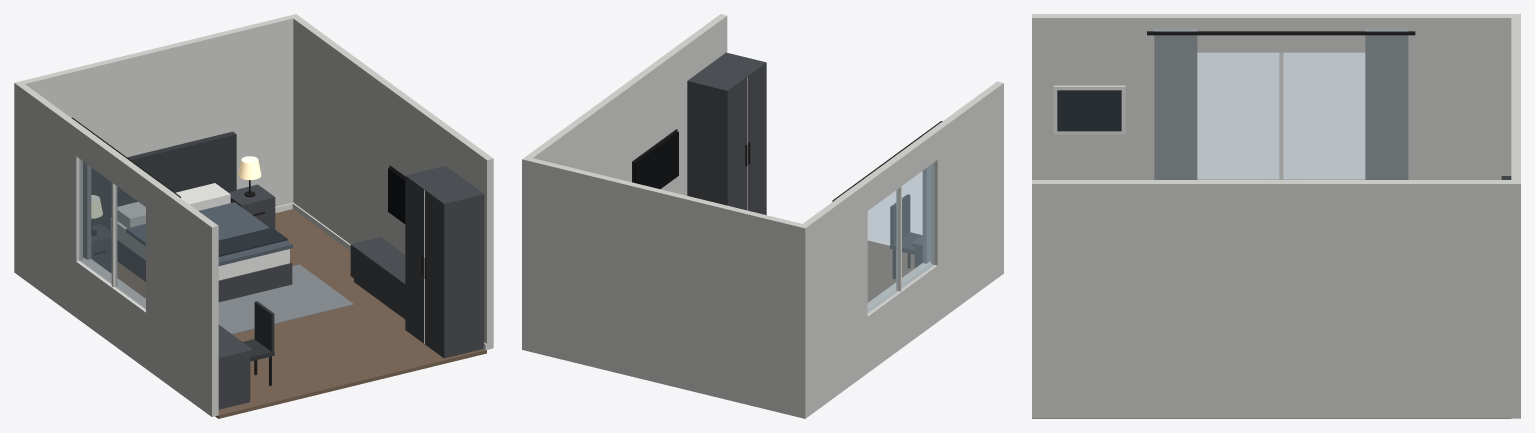
File: room-2.glb
3 views of the same model, side by side, from view 1: azimuth 30°, elevation 25°; view 2: azimuth 150°, elevation 25°; view 3: azimuth 270°, elevation 25° (orthographic). The views are drawn at different scales.
Parts seen in each view (by area): view 1: wall, wood, floor, glass, headboard, rug, linen, blanket, window_frame, chair, runner, curtain (+4 smaller); view 2: wall, wood, glass, screen, floor, window_frame, chair, curtain, metal; view 3: wall, glass, curtain, runner, window_frame, metal, floor.
Part boxes in pixels (x1=…): wall: x1=14, y1=14, x2=493, y2=416; wood: x1=91, y1=166, x2=484, y2=409; floor: x1=111, y1=209, x2=486, y2=418; glass: x1=79, y1=159, x2=145, y2=309; headboard: x1=91, y1=131, x2=236, y2=230; rug: x1=218, y1=264, x2=353, y2=334; linen: x1=110, y1=183, x2=289, y2=280; blanket: x1=126, y1=202, x2=292, y2=265; window_frame: x1=77, y1=182, x2=145, y2=311; chair: x1=243, y1=301, x2=274, y2=361; runner: x1=218, y1=227, x2=287, y2=256; curtain: x1=77, y1=122, x2=175, y2=259; wall: x1=522, y1=14, x2=1003, y2=418; wood: x1=687, y1=52, x2=922, y2=267; glass: x1=867, y1=162, x2=934, y2=313; screen: x1=634, y1=131, x2=678, y2=189; floor: x1=867, y1=240, x2=914, y2=302; window_frame: x1=867, y1=186, x2=930, y2=315; chair: x1=890, y1=194, x2=921, y2=254; curtain: x1=837, y1=123, x2=939, y2=263; metal: x1=632, y1=121, x2=942, y2=279; wall: x1=1032, y1=14, x2=1520, y2=418; glass: x1=1197, y1=52, x2=1365, y2=179; curtain: x1=1154, y1=28, x2=1408, y2=179; runner: x1=1057, y1=90, x2=1121, y2=131; window_frame: x1=1053, y1=52, x2=1283, y2=179; metal: x1=1147, y1=31, x2=1415, y2=35; floor: x1=1032, y1=418, x2=1510, y2=418.
Bounding box in the file's own units: 4.2 × 2.75 × 5.1.
